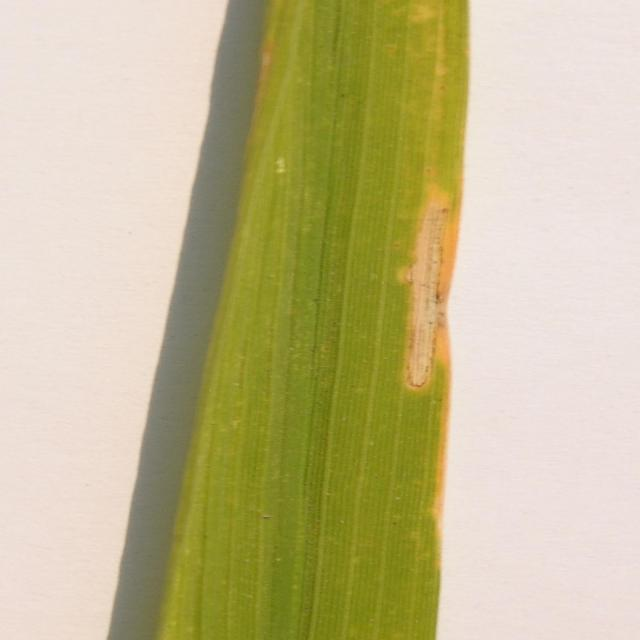Bacterial_Leaf_Blight: (394, 121, 457, 456)
